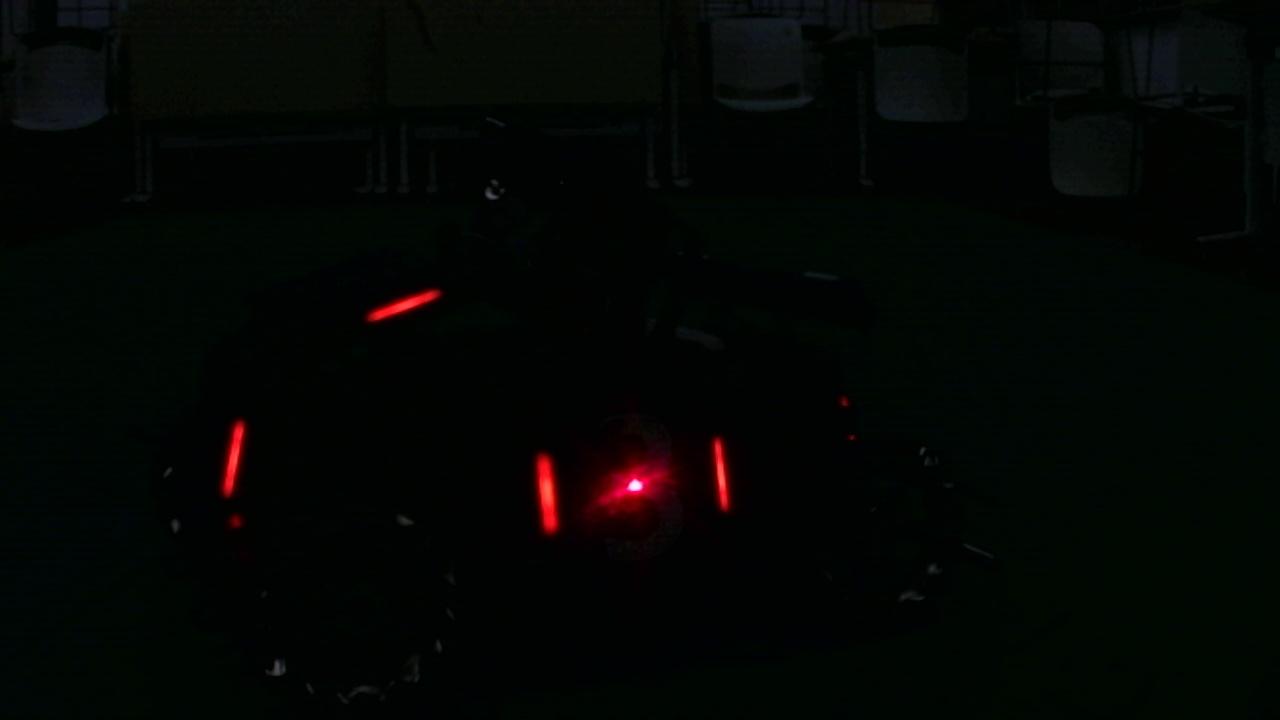lamp: (534, 451, 562, 538), (221, 421, 248, 501), (708, 430, 732, 512)
notpair1: (215, 417, 561, 538)
pair1: (533, 430, 729, 539)
